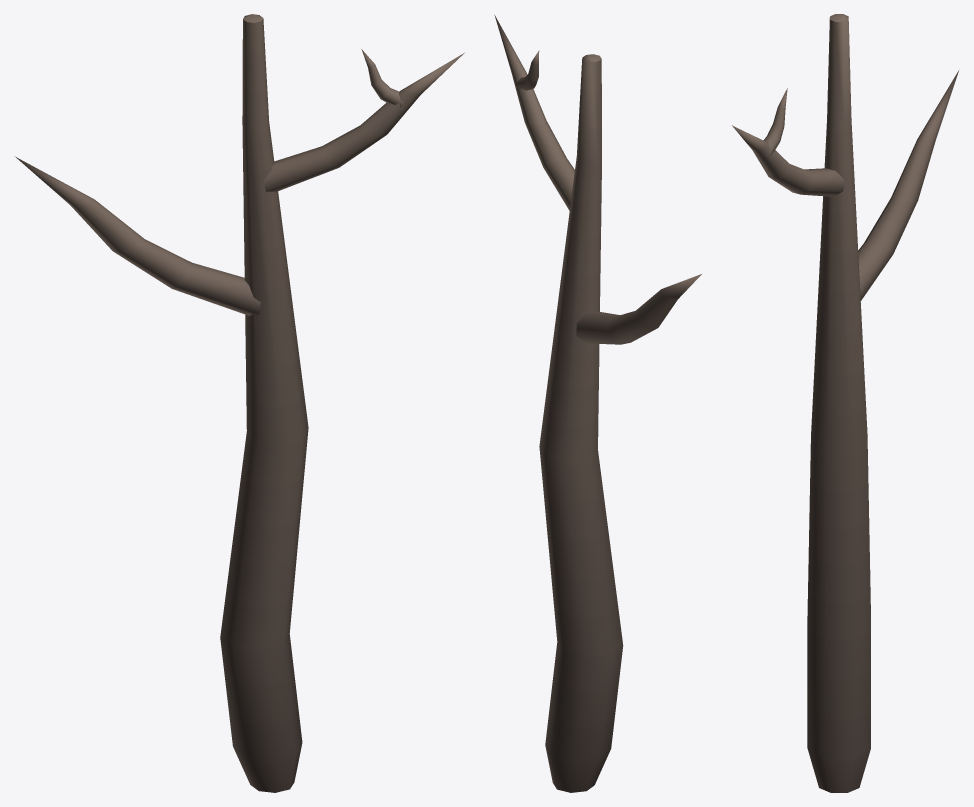
Rendered from hb_tree_dead_large.glb.
The picture shows the model from 3 angles, left to right: view 1: azimuth 30°, elevation 25°; view 2: azimuth 150°, elevation 25°; view 3: azimuth 270°, elevation 25°; orthographic projection. The views are drawn at different scales.
Visible parts, largest first — view 1: tree_dead_large; view 2: tree_dead_large; view 3: tree_dead_large.
Boxes of the visible parts, bbox=[...] form: tree_dead_large: bbox=[15, 14, 464, 792]; tree_dead_large: bbox=[494, 15, 701, 792]; tree_dead_large: bbox=[732, 14, 958, 792].
Size of the model in its own units: 2.73 by 6 by 1.63.
1 material, 1 textured.
